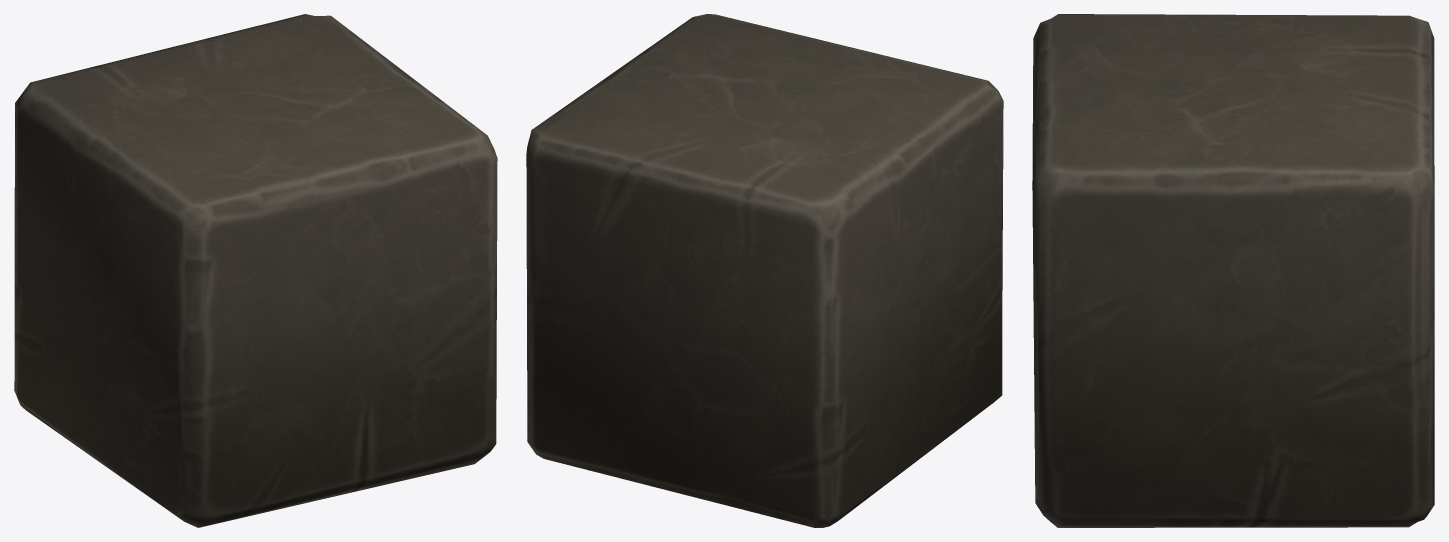
The model's file is stylized_stone_cube.glb.
3 views of the same model, side by side, from view 1: azimuth 30°, elevation 25°; view 2: azimuth 150°, elevation 25°; view 3: azimuth 270°, elevation 25° (orthographic). The views are drawn at different scales.
Parts seen in each view (by area): view 1: Cube.001; view 2: Cube.001; view 3: Cube.001.
Boxes of the visible parts, box(x1,y1,x2,y2) form: Cube.001: box(14, 14, 497, 527); Cube.001: box(526, 14, 1003, 527); Cube.001: box(1032, 14, 1434, 527).
Size of the model in its own units: 201 by 201 by 201.
1 material, 1 textured.
